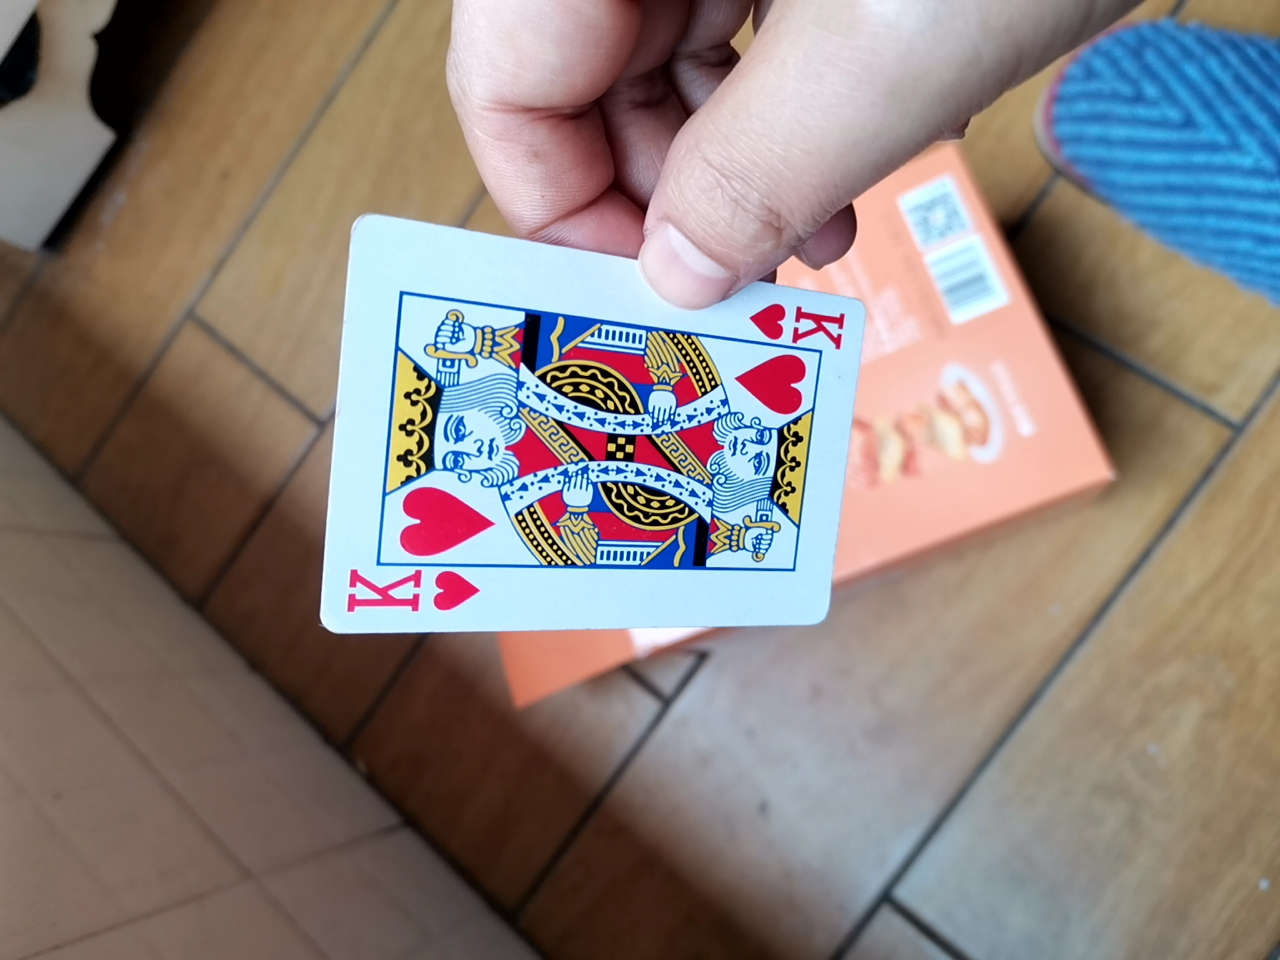hx k: (318, 227, 867, 662)
